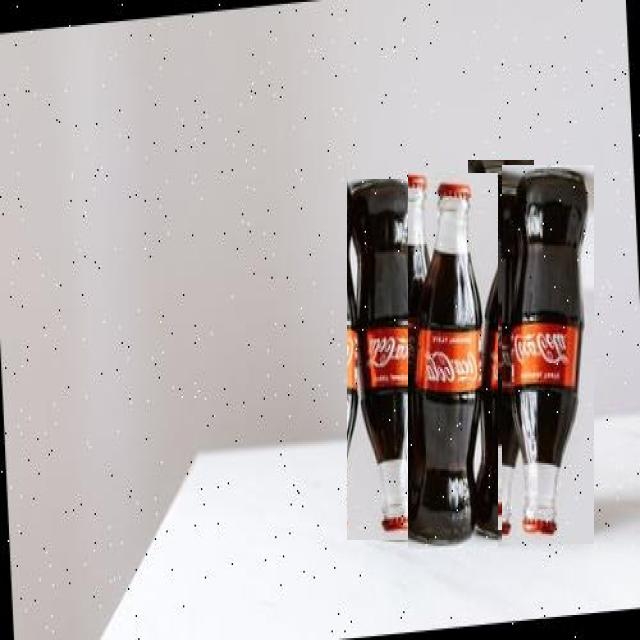coca-cola: (502, 165, 594, 544), (408, 173, 498, 552), (347, 179, 435, 540), (468, 160, 534, 530)
